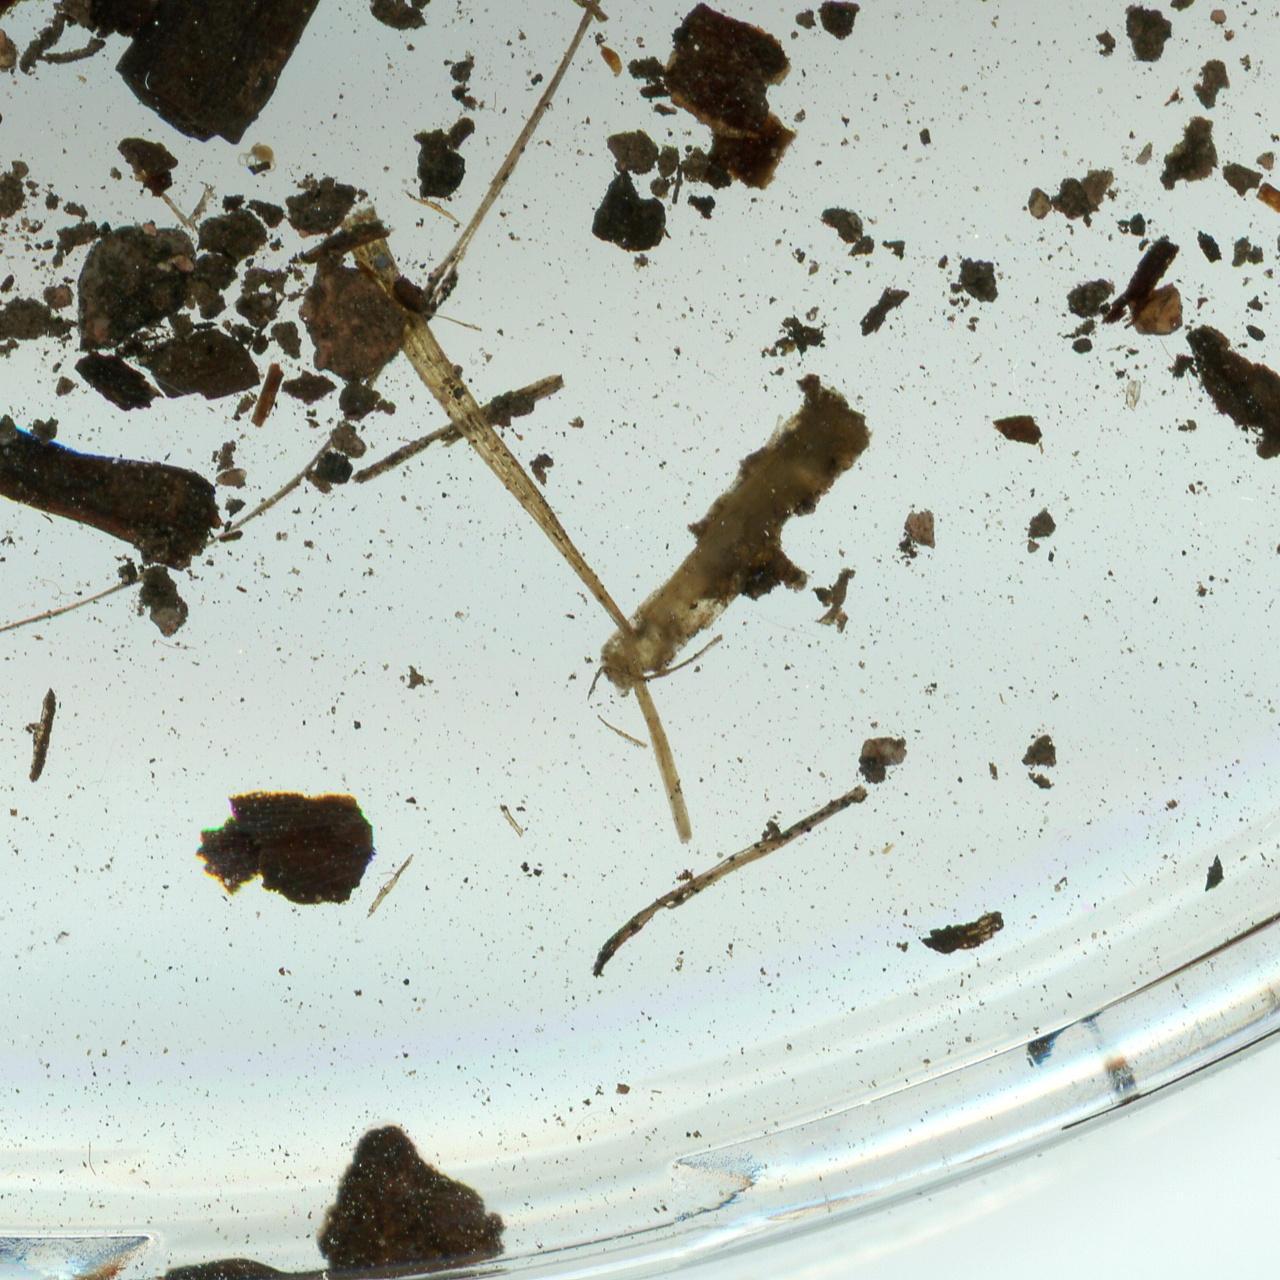arthropod: (238, 142, 279, 177)
